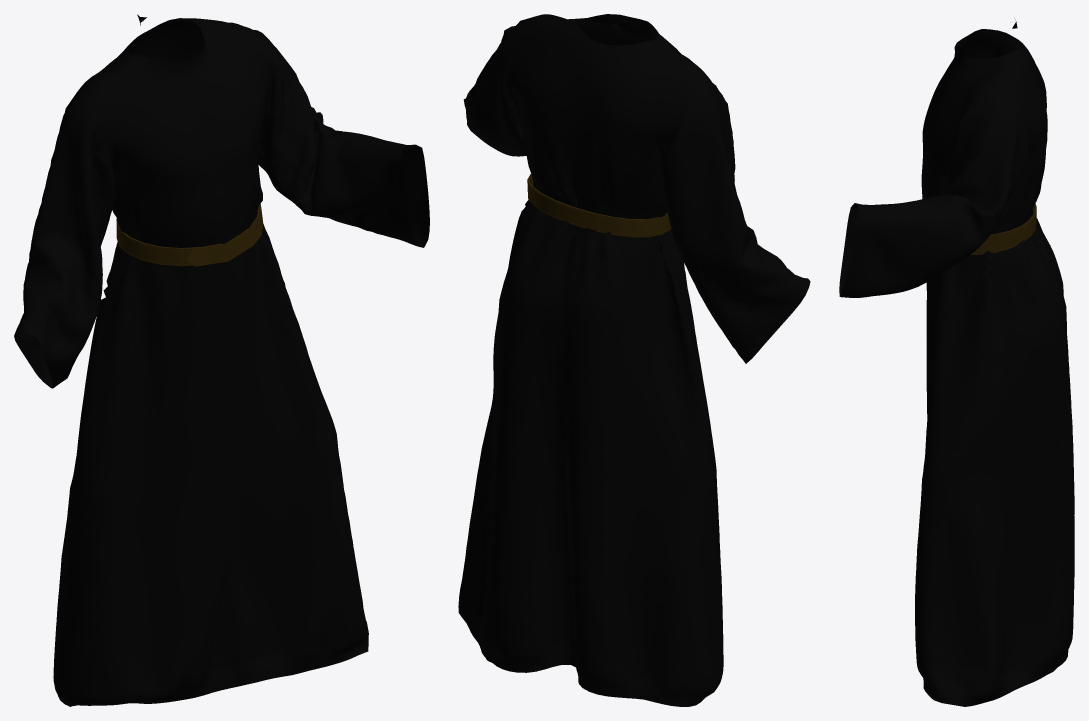
File: Плащ.fbx
3 views of the same model, side by side, from view 1: azimuth 30°, elevation 25°; view 2: azimuth 150°, elevation 25°; view 3: azimuth 270°, elevation 25° (orthographic). The views are drawn at different scales.
Visible parts, largest first — view 1: default001e, Plane009; view 2: default001e, Plane009; view 3: default001e, Plane009.
Part boxes in pixels (x1,y1,x2,y2): default001e: [14, 14, 429, 706]; Plane009: [116, 204, 263, 266]; default001e: [458, 14, 810, 706]; Plane009: [527, 174, 671, 237]; default001e: [839, 19, 1074, 706]; Plane009: [971, 203, 1036, 255].
Size of the model in its own units: 851 by 1529 by 528.
